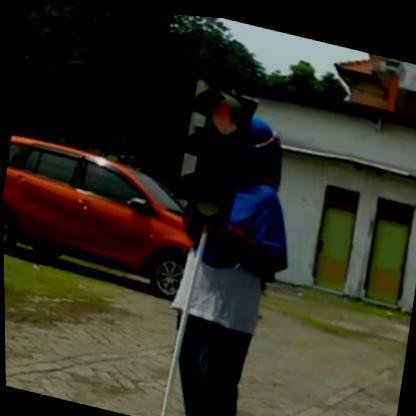red: (170, 78, 258, 228)
